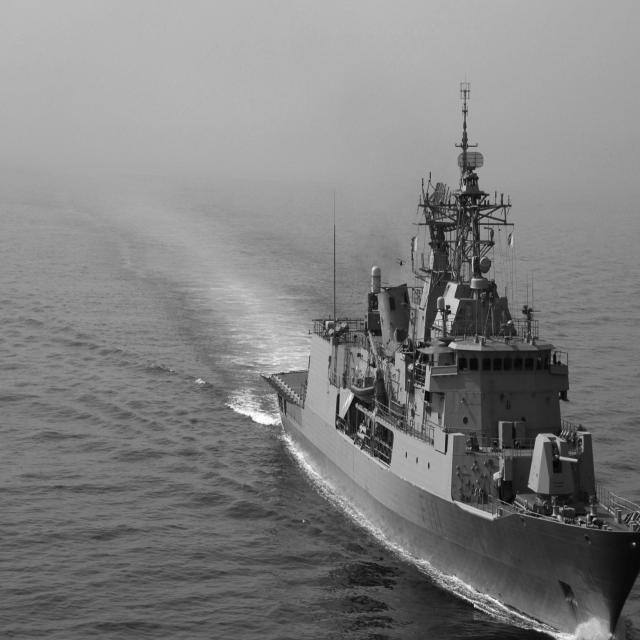Fragata: (13, 29, 420, 640)
